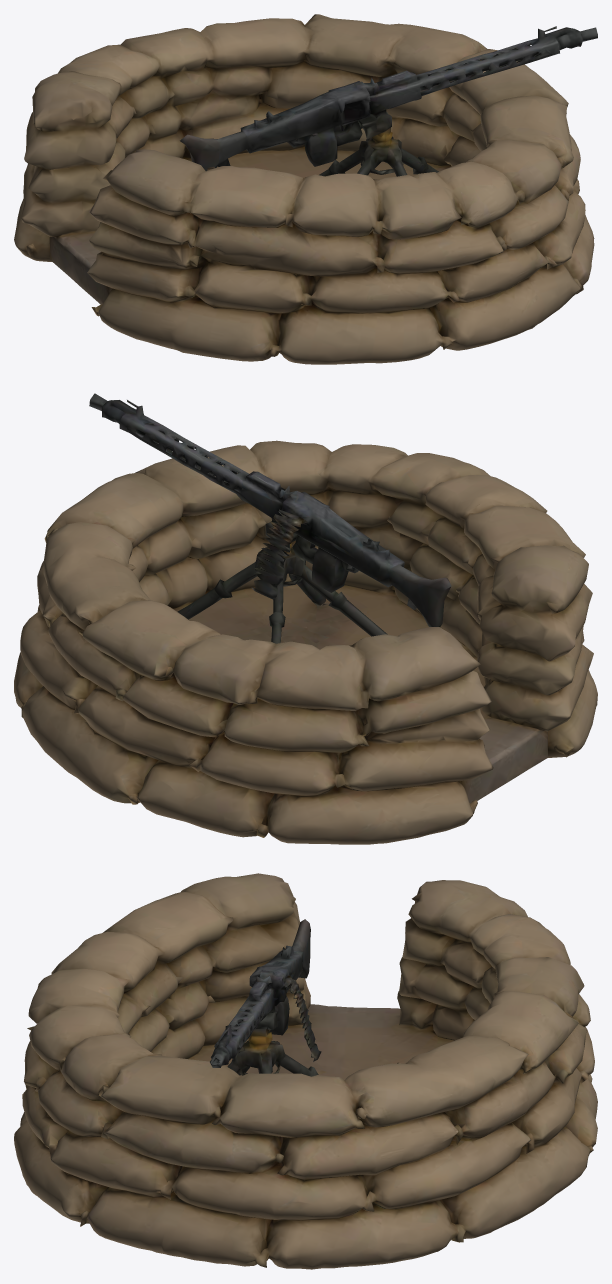
The model's file is prop_mg_nest.glb.
The picture shows the model from 3 angles, top to bottom: view 1: azimuth 30°, elevation 25°; view 2: azimuth 150°, elevation 25°; view 3: azimuth 270°, elevation 25°; orthographic projection. The views are drawn at different scales.
Visible parts, largest first — view 1: tripo_node_39945453-104d-4829-bd6a-da3f21416b2c; view 2: tripo_node_39945453-104d-4829-bd6a-da3f21416b2c; view 3: tripo_node_39945453-104d-4829-bd6a-da3f21416b2c.
Part boxes in pixels (left/top/right/bottom): tripo_node_39945453-104d-4829-bd6a-da3f21416b2c: left=14, top=14, right=597, bottom=364; tripo_node_39945453-104d-4829-bd6a-da3f21416b2c: left=14, top=393, right=597, bottom=844; tripo_node_39945453-104d-4829-bd6a-da3f21416b2c: left=14, top=873, right=597, bottom=1269.
Bounding box in the file's own units: 1 × 0.4317 × 0.9969.
Materials: 1 (1 with a texture image).
